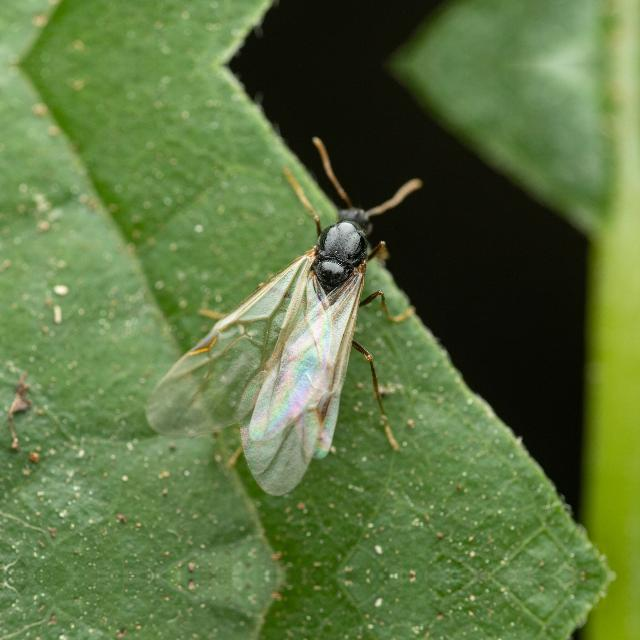Tetramorium: (209, 156, 441, 464)
